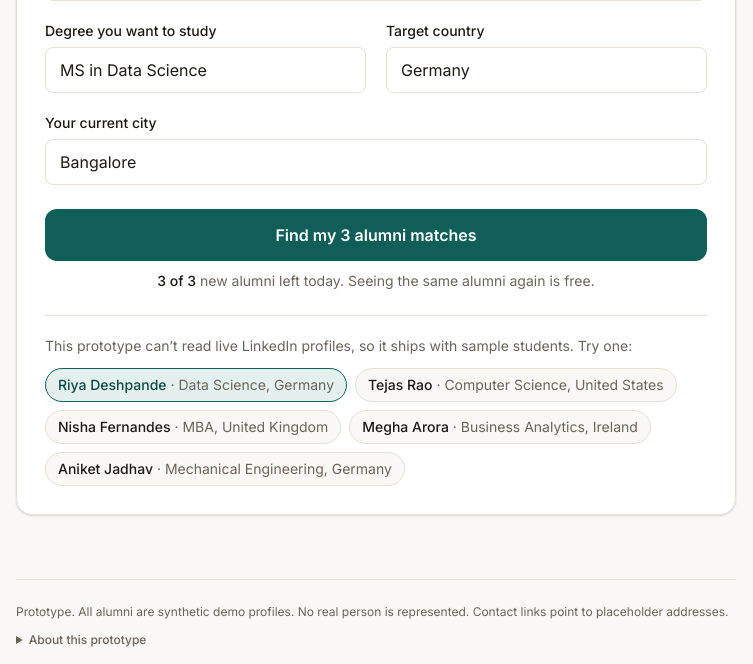
Test: search form › demo profile buttons populate all four fields
(page scrolled)
Click the button "Tejas Rao · Computer Science, United States" at (516, 385), box [355, 368, 676, 402]
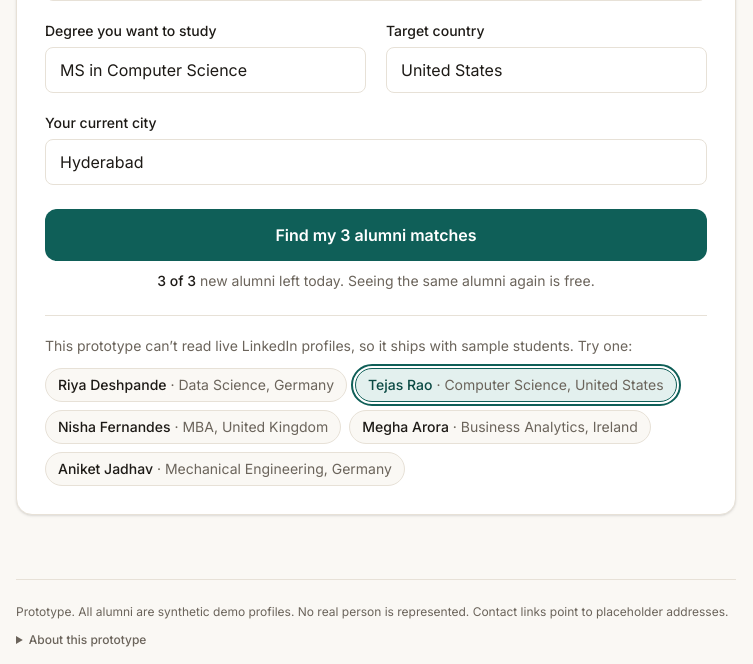
Result: the field labelled "Degree you want to study" holds "MS in Computer Science" at [45, 47, 366, 93]
Result: the field labelled "Target country" holds "United States" at [386, 47, 707, 93]
Result: the field labelled "Your current city" holds "Hyderabad" at [45, 139, 707, 185]
